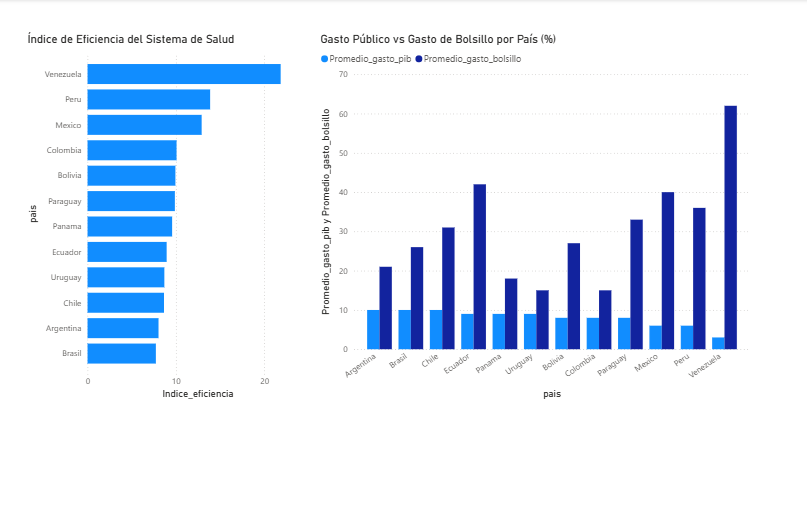

Layout of this report page (visuals, bound fields, positions):
{"tool":"powerbi","page":{"name":"Eficiencia del Sistema","canvas":[1280,720],"ordinal":2},"visuals":[{"type":"clusteredBarChart","title":"Índice de Eficiencia del Sistema de Salud","fields":{"Category":["eficiencia_sistemas.pais"],"Y":["Avg(eficiencia_sistemas.indice_eficiencia)"]},"box":[38.6,48.7,428.3,542.6],"z":0},{"type":"clusteredColumnChart","title":"Gasto Público vs Gasto de Bolsillo por País (%)","fields":{"Category":["gasto_vs_mortalidad.pais"],"Y":["Avg(gasto_vs_mortalidad.promedio_gasto_pib)","Avg(gasto_vs_mortalidad.promedio_gasto_bolsillo)"]},"box":[467,48.7,638.3,542.6],"z":1000}]}

Visuals, with their boxes on the page's 1280x720 design canvas (x1, y1, x2, y2). These are canvas units, not pixel positions in the 807x514 screenshot, which may show the page scaled, cropped or inside an application window:
"Índice de Eficiencia del Sistema de Salud" clusteredBarChart: x1=39, y1=49, x2=467, y2=591
"Gasto Público vs Gasto de Bolsillo por País (%)" clusteredColumnChart: x1=467, y1=49, x2=1105, y2=591
